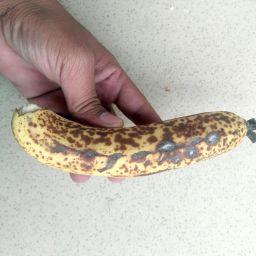banana: (11, 100, 256, 181)
